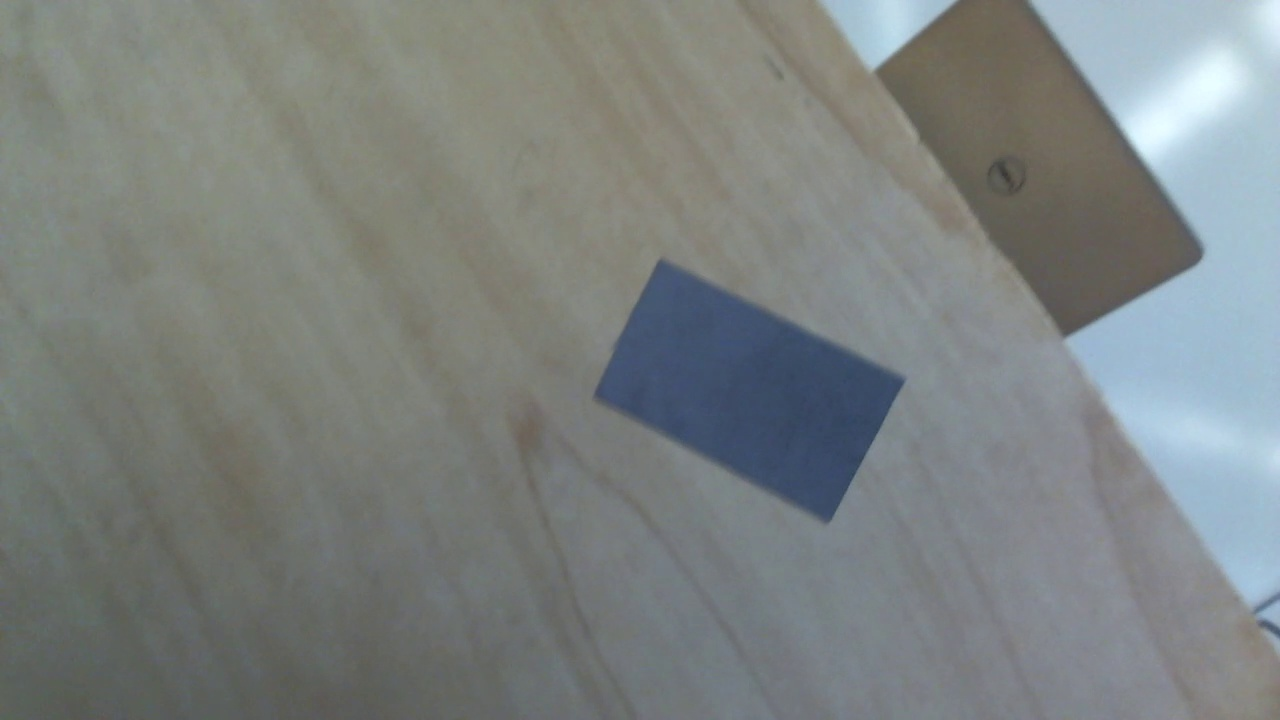Tape: (595, 259, 908, 524)
